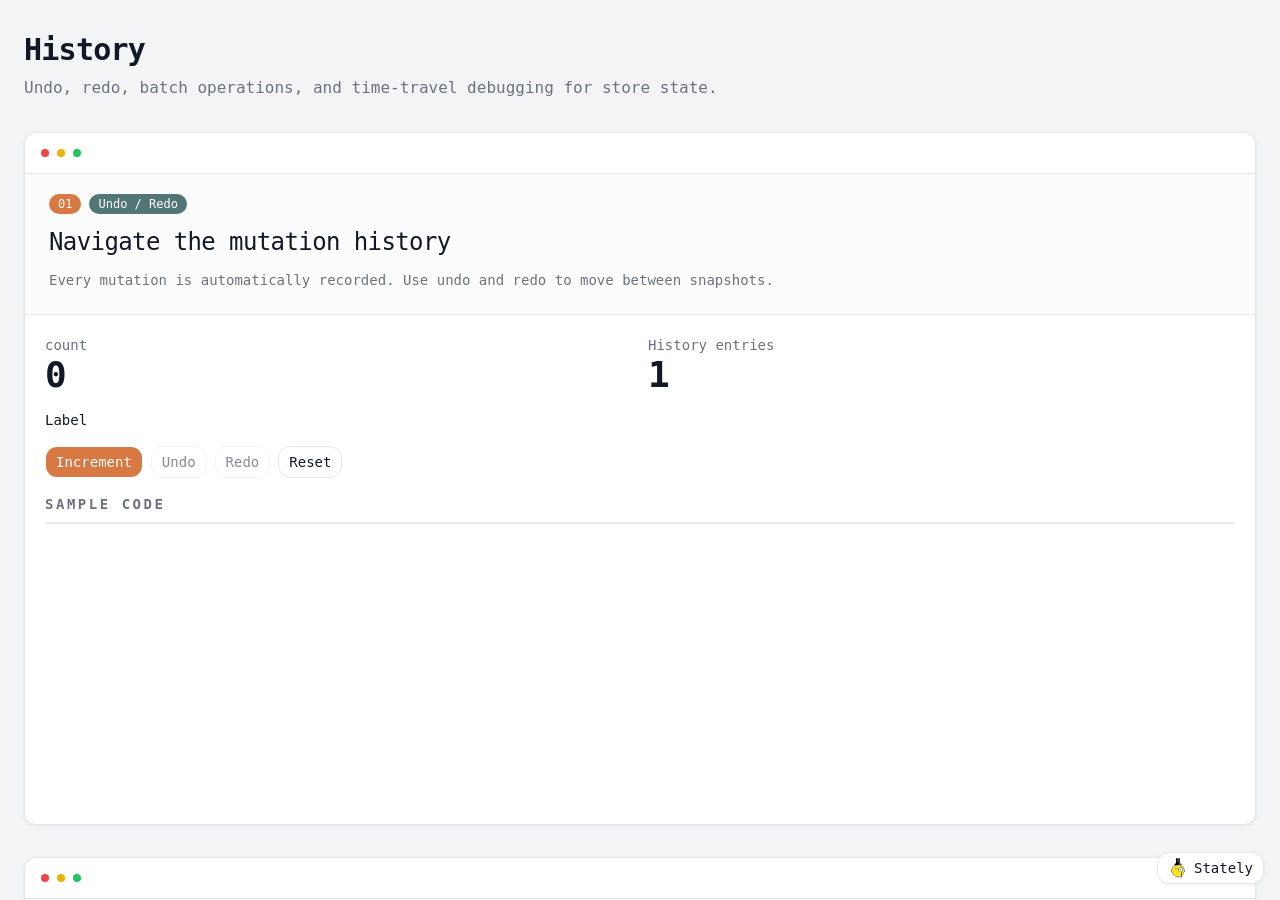
Test case: History page › increment records history entries
expect the text with test id "history-count" reads "0": met, box [45, 354, 67, 395]
expect the text with test id "history-entry-count" reads "1": met, box [648, 354, 670, 395]
Step 1. Click the button with test id "history-increment" → (94, 462), box [45, 446, 143, 478]
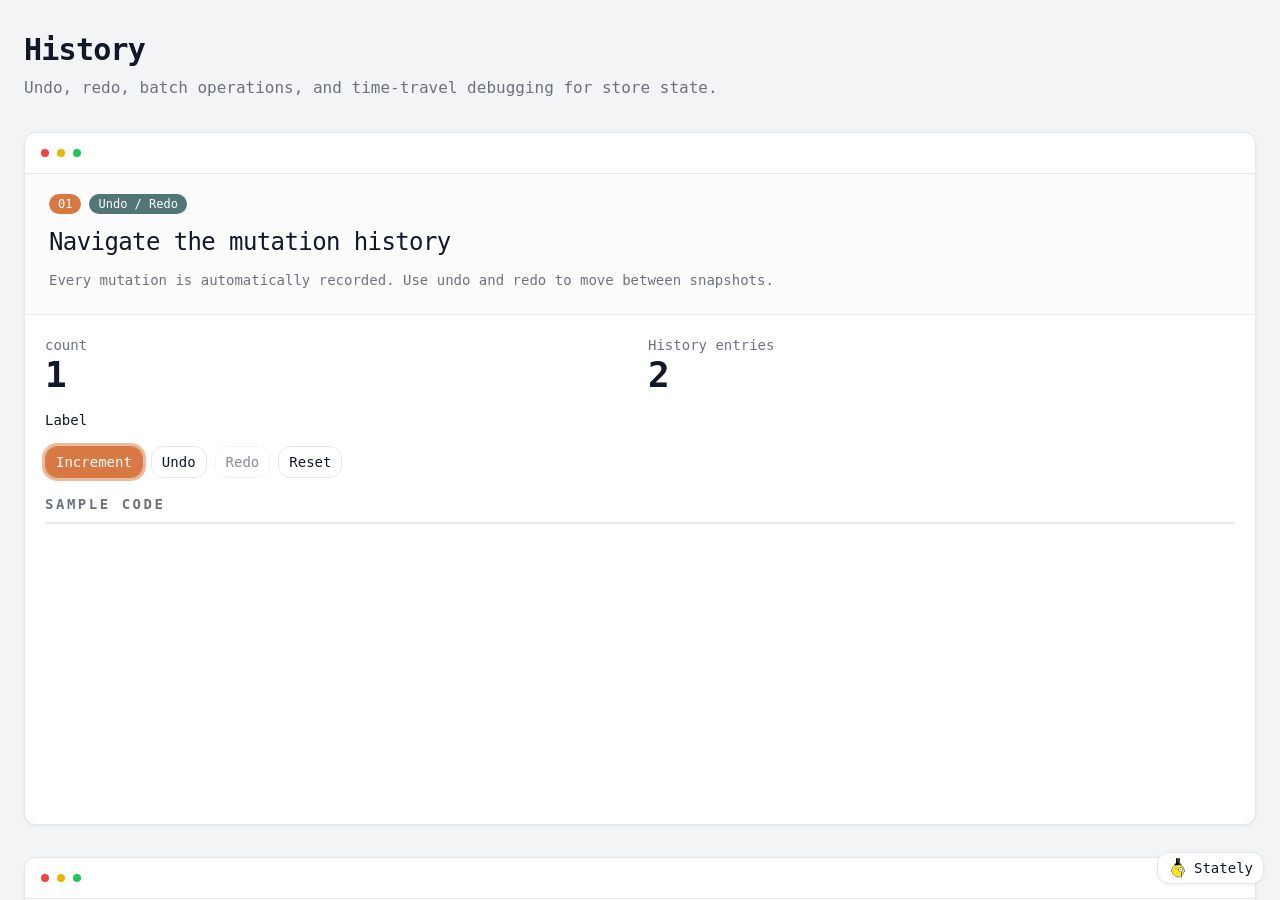
expect the text with test id "history-count" reads "1": met, box [45, 354, 67, 395]
expect the text with test id "history-entry-count" reads "2": met, box [648, 354, 670, 395]
